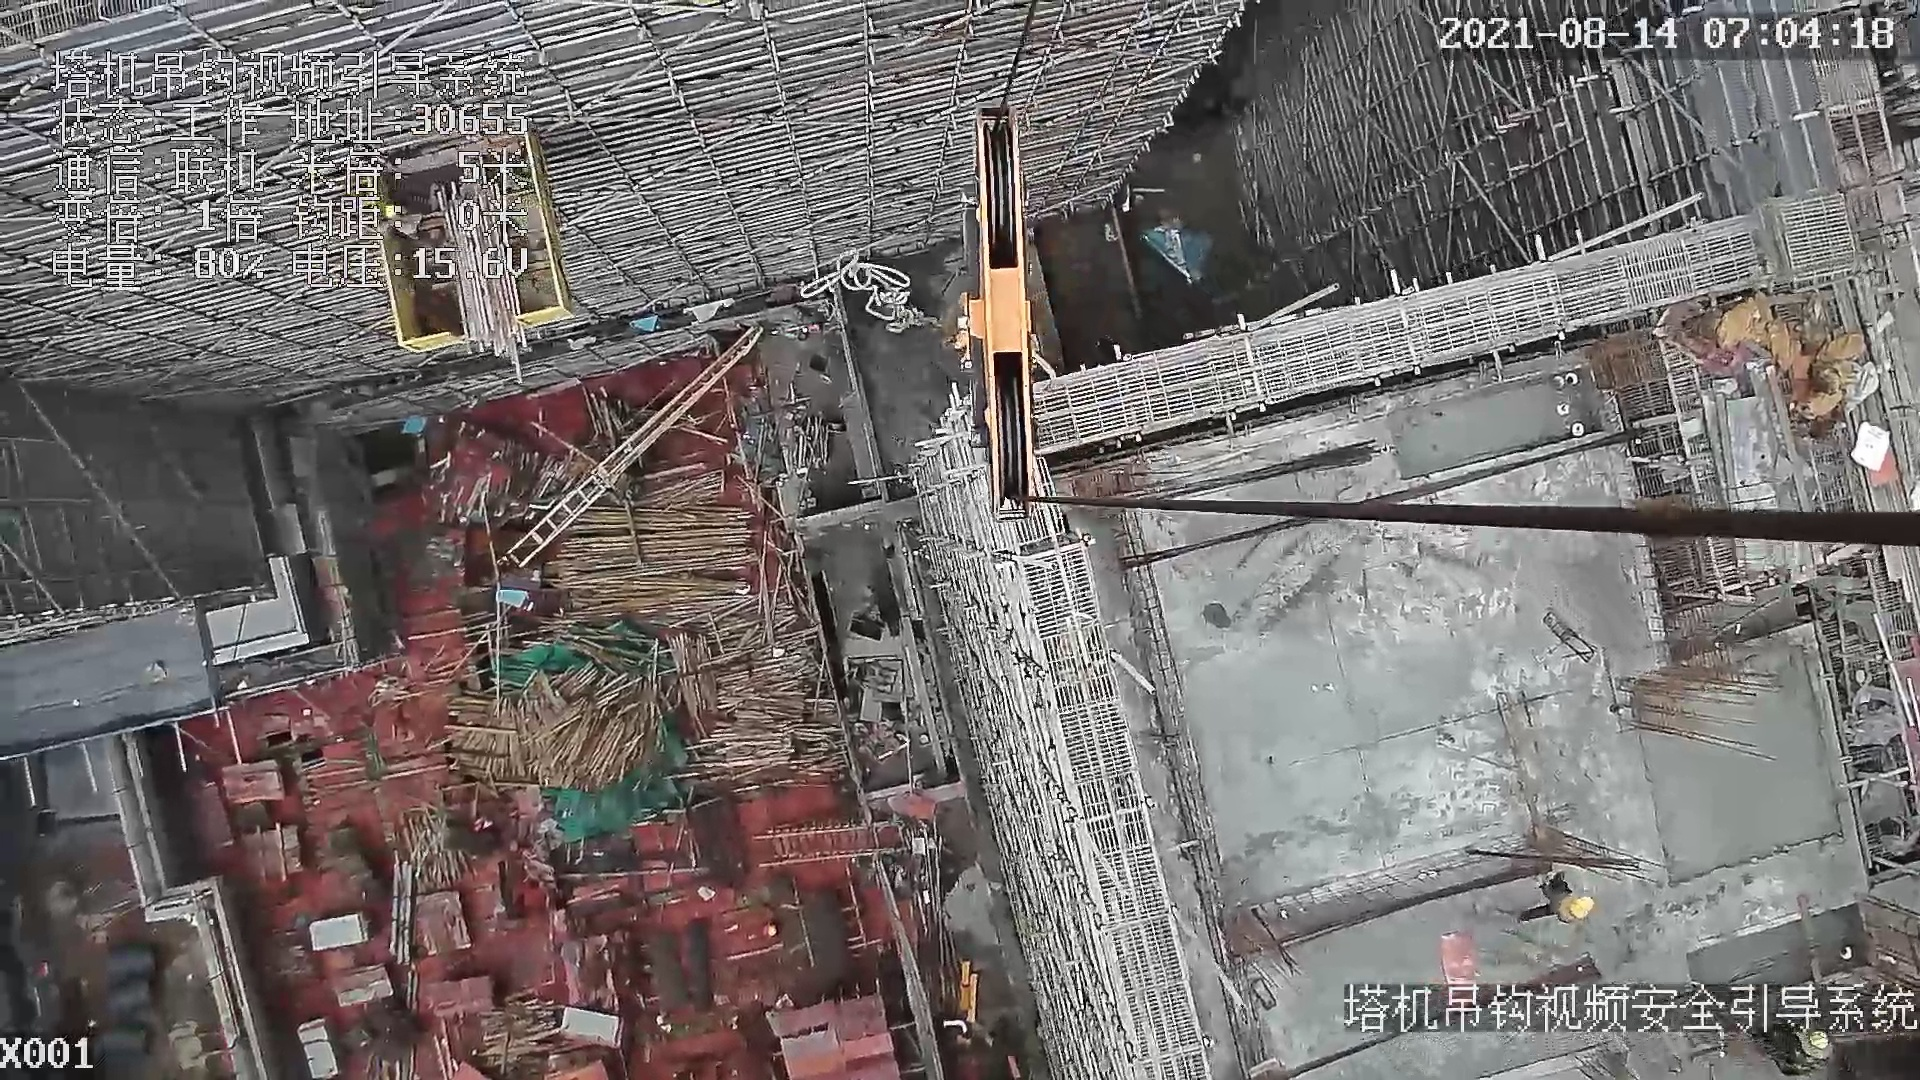hook: (951, 95, 1058, 515)
person: (1520, 865, 1597, 933), (1760, 1026, 1836, 1075)
